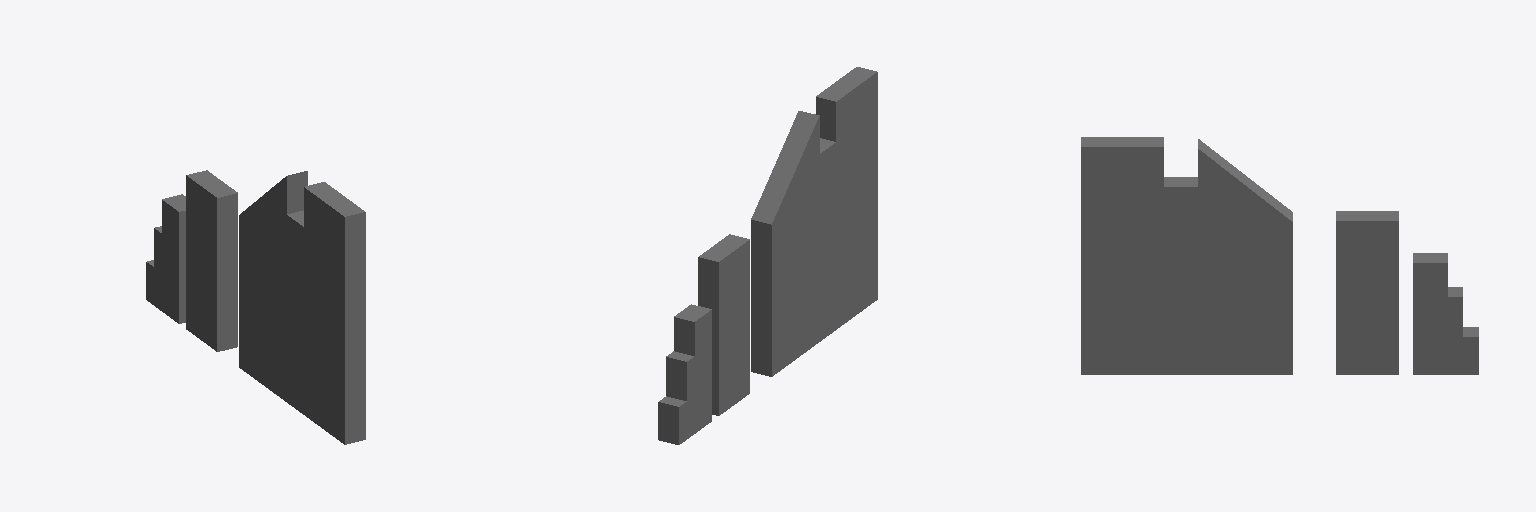
The model's file is boxes2.obj.
3 views of the same model, side by side, from view 1: azimuth 30°, elevation 25°; view 2: azimuth 150°, elevation 25°; view 3: azimuth 270°, elevation 25° (orthographic).
Visible parts, largest first — view 1: polySurface17; view 2: polySurface17; view 3: polySurface17.
Boxes of the visible parts, x1,y1,x2,y2 form: polySurface17: [146, 170, 365, 444]; polySurface17: [658, 67, 877, 444]; polySurface17: [1081, 137, 1478, 374].
Bounding box in the file's own units: 141 × 1473 × 2320.